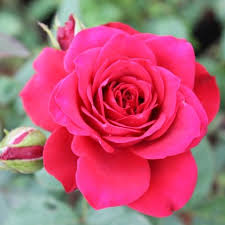rose: (19, 10, 225, 219)
